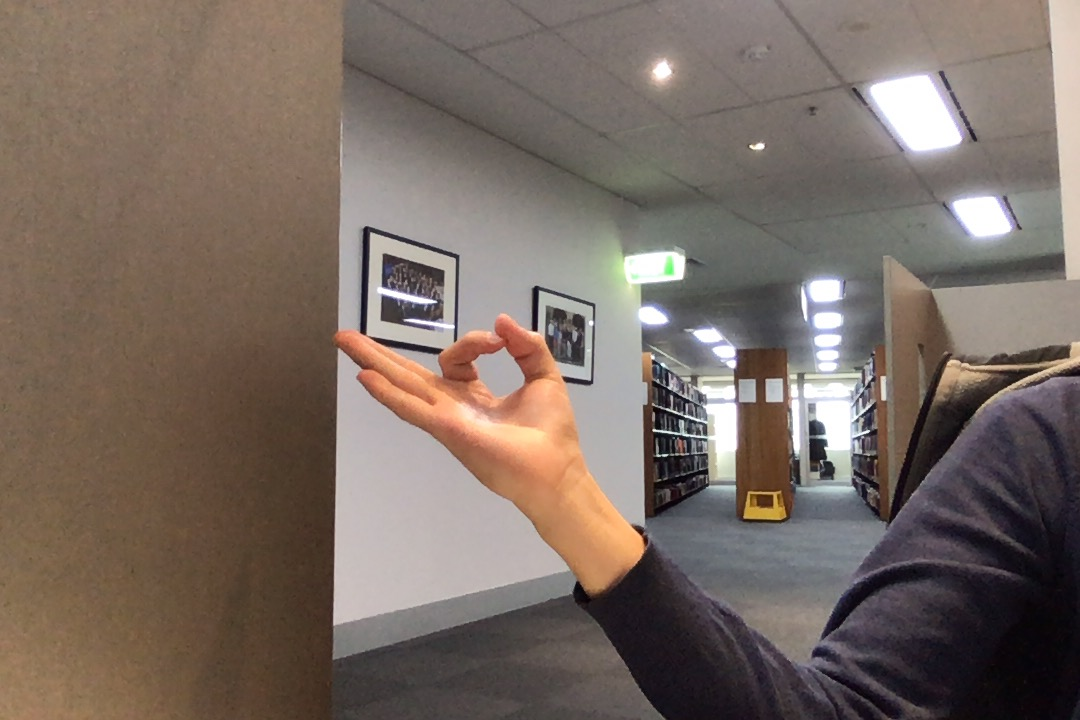oksign: (323, 302, 588, 504)
